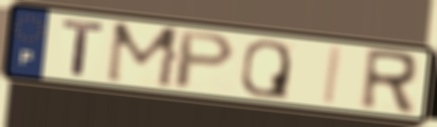I: (320, 44, 346, 108)
M: (102, 20, 185, 91)
P: (170, 28, 239, 91)
Q: (238, 38, 293, 102)
R: (357, 46, 421, 117)
T: (60, 18, 108, 79)
